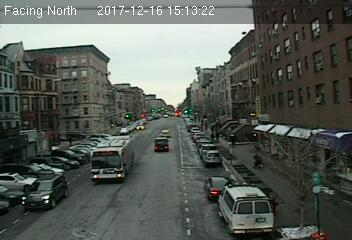bus: (89, 136, 136, 184)
car: (21, 174, 67, 206), (207, 175, 228, 198), (203, 150, 220, 162)
police: (218, 180, 274, 235)
truck: (153, 137, 169, 151)
